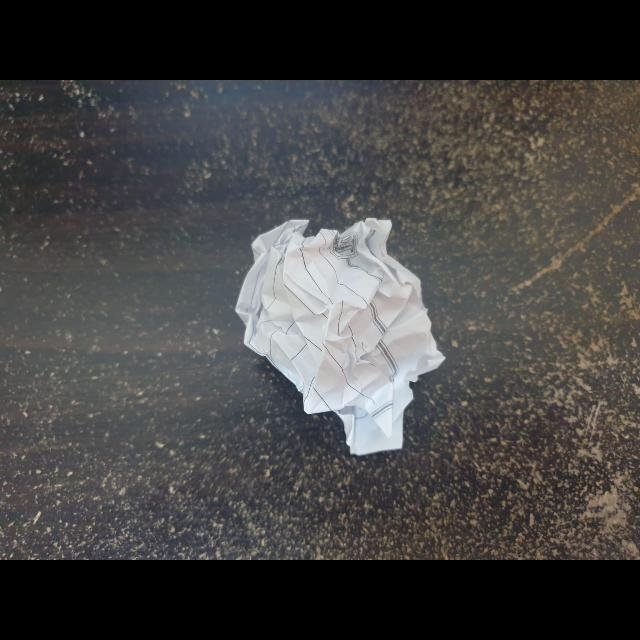scrap_paper: (250, 213, 436, 434)
